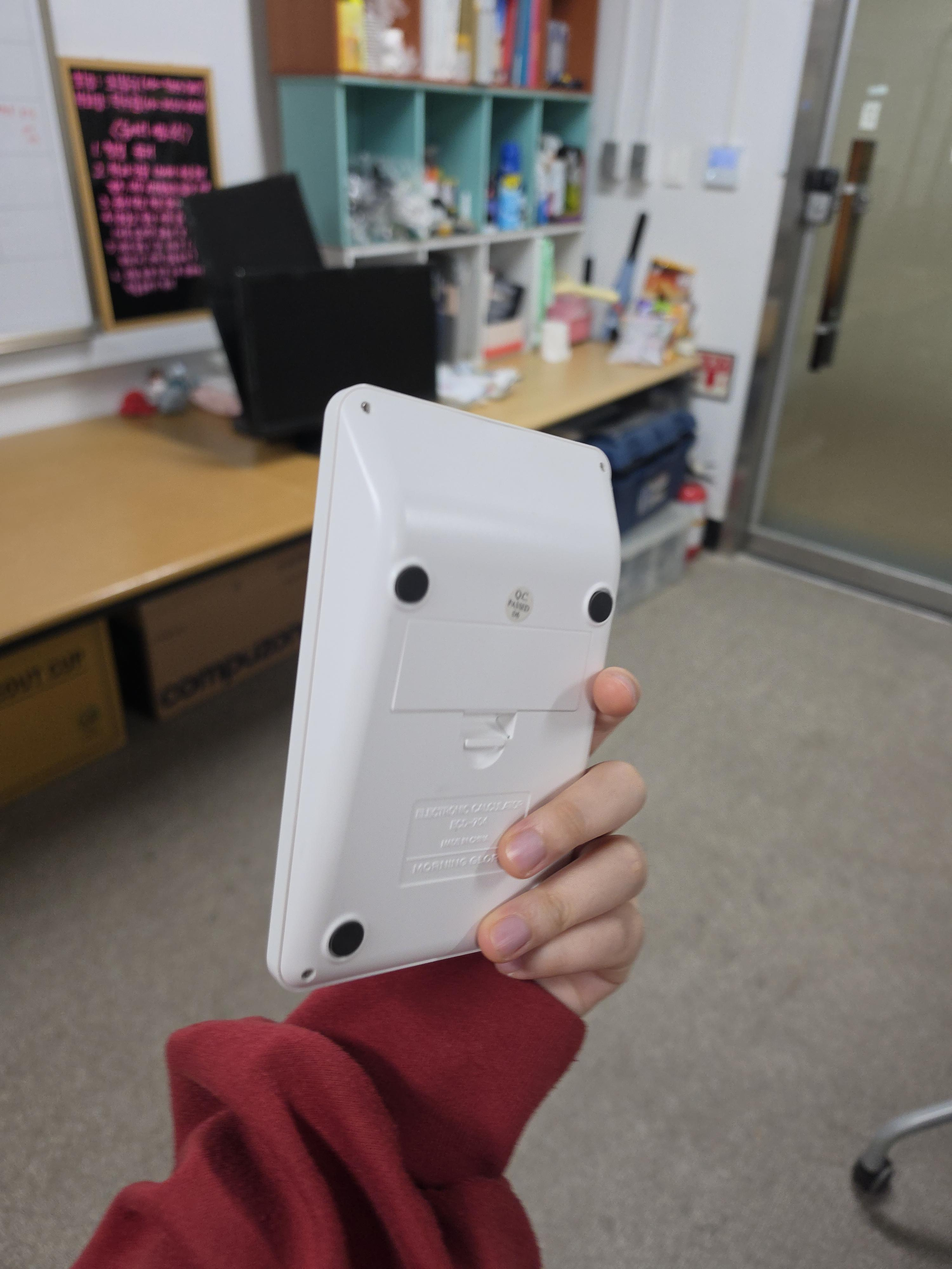calculator: (265, 384, 622, 993)
